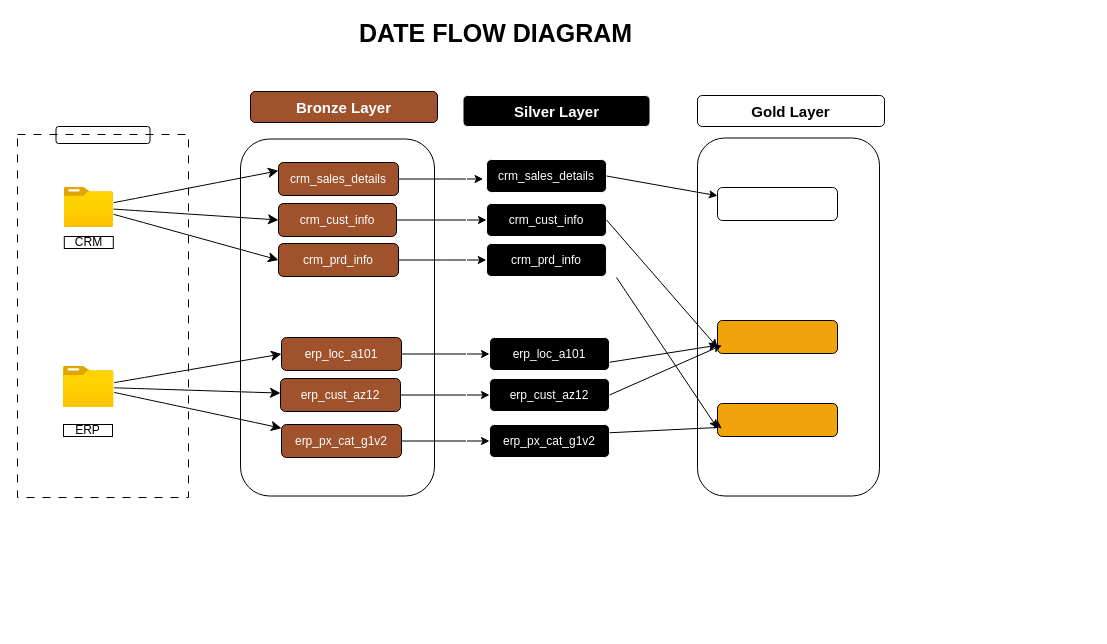
Image size: 1107x644. Some labels were removed from this diagram. Each missing label, with the centre of its shape:
"dim_customers" goes at (777,337).
"dim_products" goes at (777,419).
"fact_sales" goes at (777,203).
"source" goes at (102,135).
